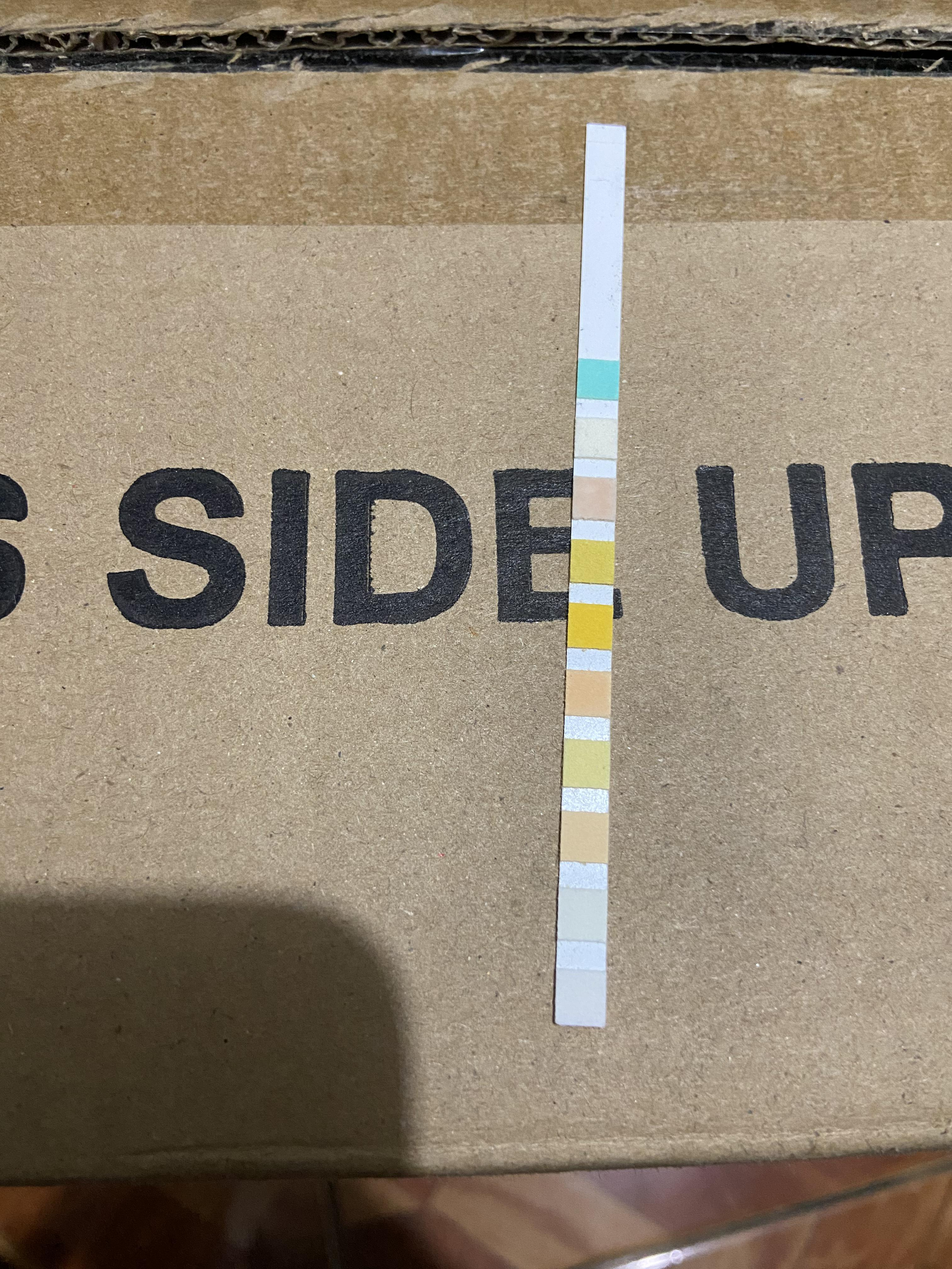Bilirubin: (577, 421, 615, 457)
Blood: (570, 605, 611, 647)
Glucose: (578, 361, 619, 398)
Ketone: (575, 480, 614, 518)
Leukocytes: (557, 973, 606, 1023)
Nitrite: (559, 892, 606, 939)
Protein: (565, 740, 610, 786)
SpGravity: (573, 543, 613, 581)
Urobilinogen: (563, 813, 607, 860)
pH: (568, 673, 609, 714)
strip: (555, 124, 626, 1028)
